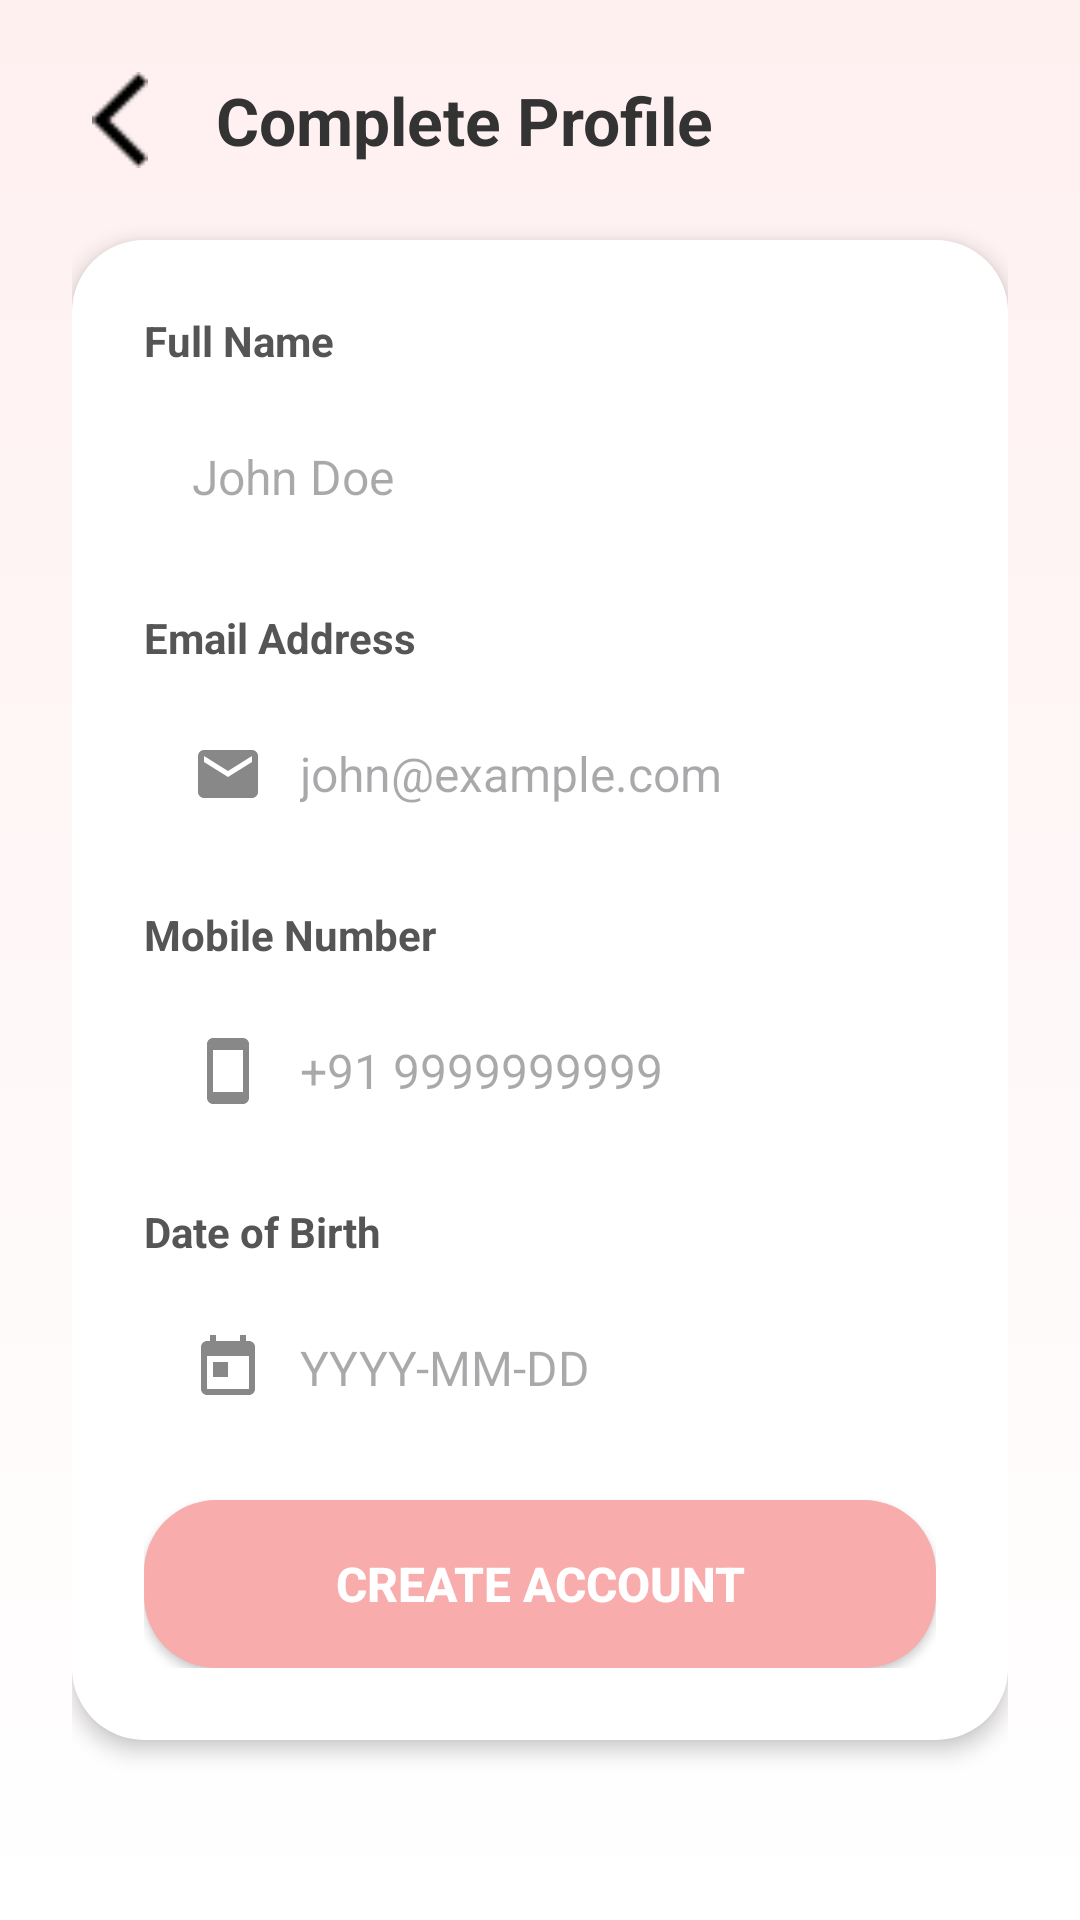

Locate icon controls on the screen. Image size 1080 x 1920, boxes as (x1,y1,x2,y2).
Back: (92,72,148,168)
